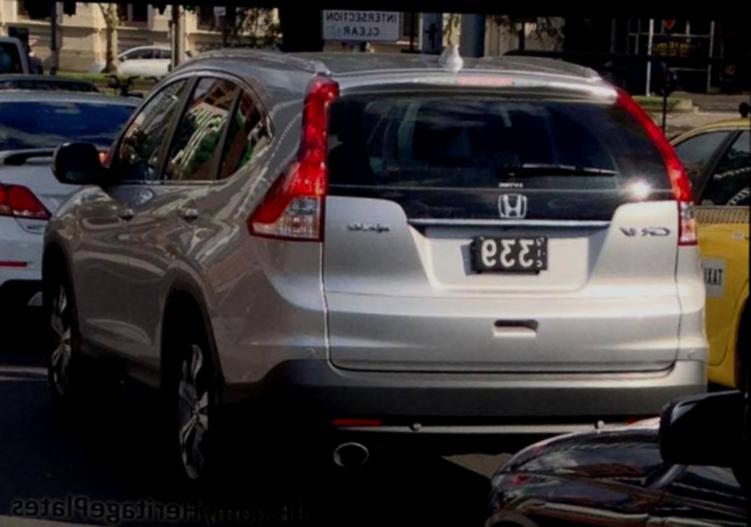License_Plate: (454, 225, 558, 278)
